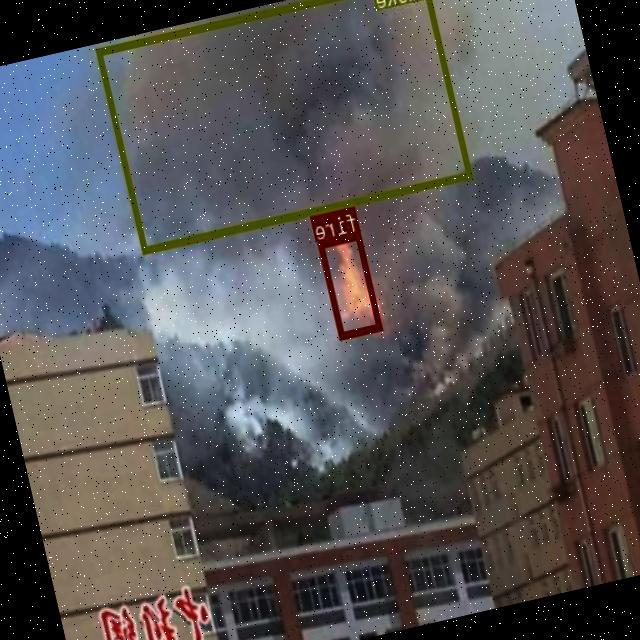fire: (318, 230, 384, 336)
smoke: (96, 0, 474, 252)
